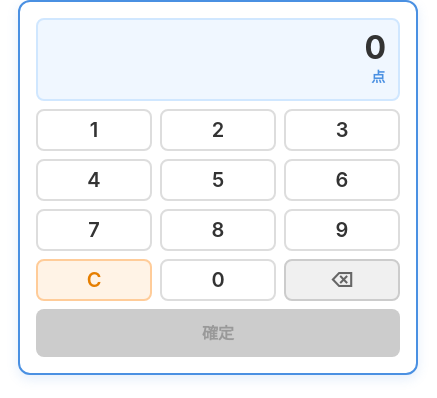
Test: NumPad › クリア機能 › クリアボタンをクリックすると入力値がリセットされる
Click the button "1" at {"x": 94, "y": 130}, box [36,109,152,151]
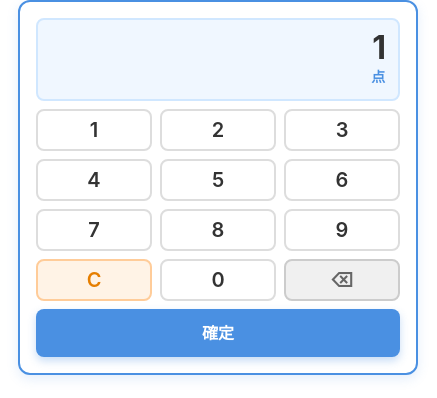
Click the button "2" at {"x": 218, "y": 130}, box [160,109,276,151]
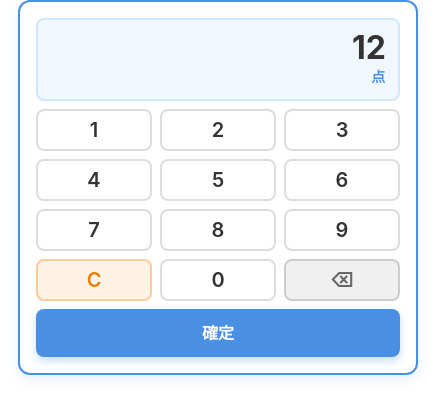
Expected: the text with class "num-pad__input-value" reads "12", [352,28,386,67]
Click the button named "Clear" at {"x": 94, "y": 280}, box [36,259,152,301]
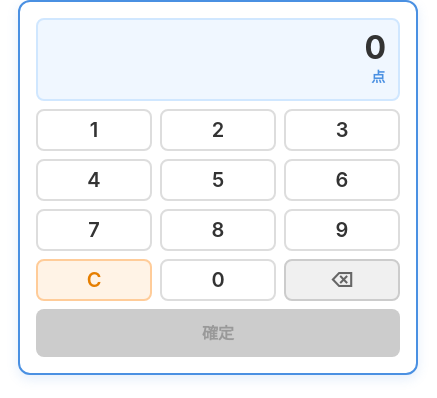
Expected: the text with class "num-pad__input-value" reads "0", [364,28,386,67]
